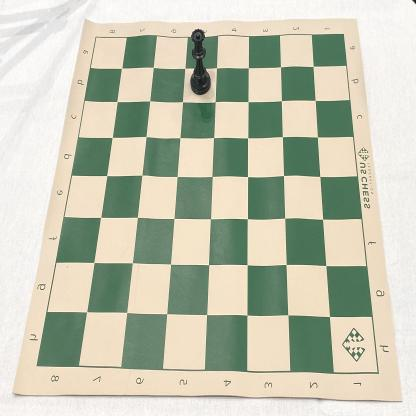black-queen: (190, 28, 211, 96)
